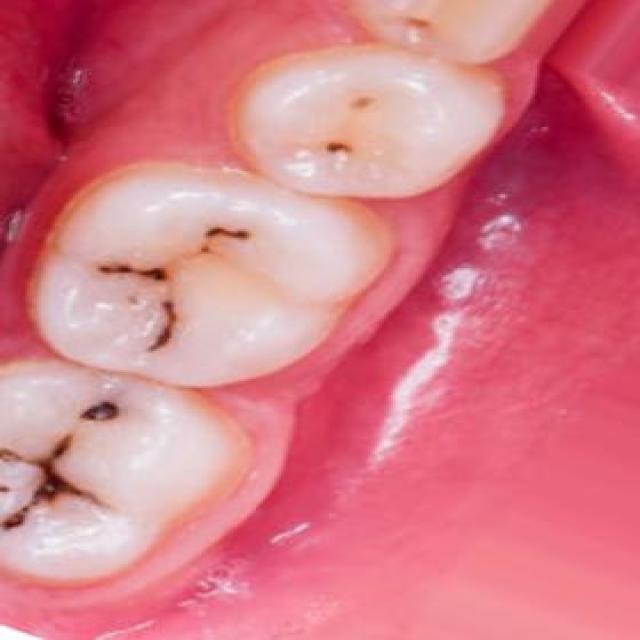caries: (72, 199, 313, 366), (3, 394, 152, 541), (263, 74, 415, 180), (388, 14, 455, 49)
